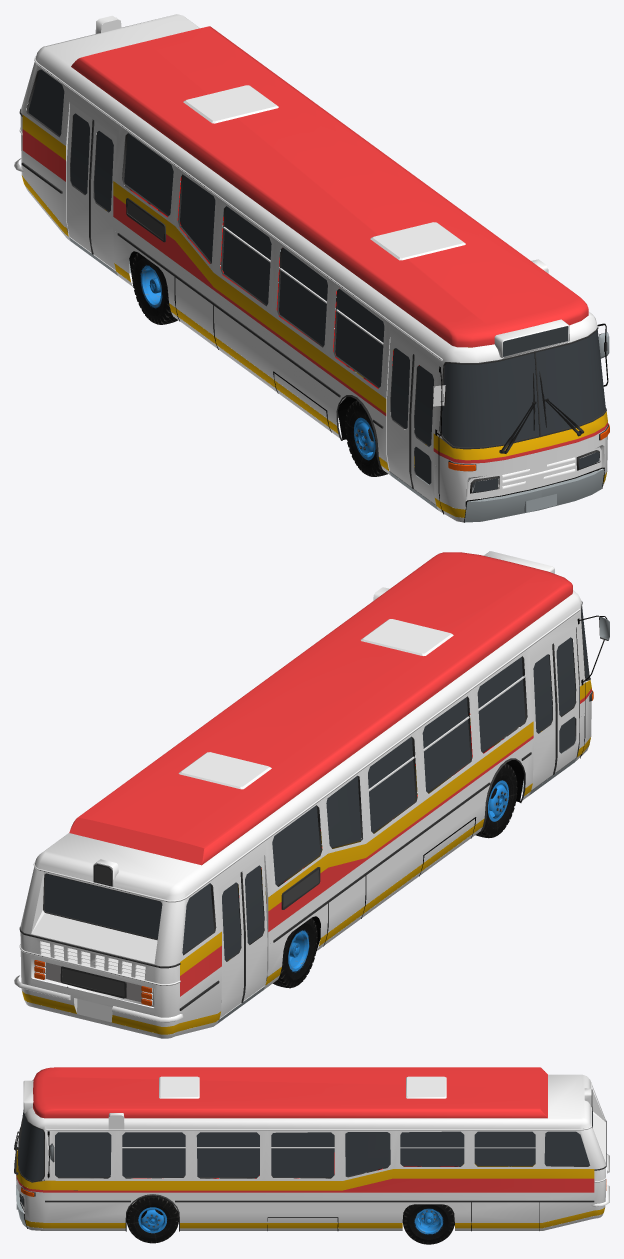
Rendered from bus.glb.
3 renders of one model, top to bottom at view 1: azimuth 30°, elevation 25°; view 2: azimuth 150°, elevation 25°; view 3: azimuth 270°, elevation 25°, orthographic. The views are drawn at different scales.
Visible parts, largest first — view 1: Object_34, Object_25, Object_16, Object_33, Object_23, Object_17, Object_22, Object_26, wheelRR, wheelFR, Object_32, Object_3 (+2 smaller); view 2: Object_25, Object_34, Object_16, Object_33, Object_23, Object_32, Object_22, wheelRR, wheelFR, Object_28, Object_26; view 3: Object_25, Object_34, Object_16, Object_33, Object_23, wheelFL, wheelRL, Object_32, Object_26, Object_22, Object_11, Object_14 (+1 smaller).
Part boxes in pixels (left/top/right/bottom): Object_34: left=22, top=26, right=607, bottom=463; Object_25: left=20, top=14, right=607, bottom=522; Object_16: left=28, top=69, right=605, bottom=492; Object_33: left=21, top=115, right=607, bottom=517; Object_23: left=19, top=105, right=607, bottom=488; Object_17: left=68, top=233, right=604, bottom=522; Object_22: left=26, top=70, right=608, bottom=496; Object_26: left=113, top=217, right=569, bottom=467; wheelRR: left=132, top=254, right=171, bottom=323; wheelFR: left=345, top=403, right=384, bottom=476; Object_32: left=14, top=56, right=442, bottom=360; Object_3: left=503, top=326, right=568, bottom=356; Object_25: left=20, top=587, right=591, bottom=1038; Object_34: left=69, top=552, right=591, bottom=996; Object_16: left=44, top=606, right=589, bottom=961; Object_33: left=22, top=680, right=591, bottom=1034; Object_23: left=19, top=601, right=590, bottom=1010; Object_32: left=14, top=608, right=580, bottom=1022; Object_22: left=183, top=617, right=608, bottom=980; wheelRR: left=276, top=918, right=316, bottom=986; wheelFR: left=480, top=766, right=516, bottom=836; Object_28: left=62, top=869, right=318, bottom=996; Object_26: left=68, top=551, right=584, bottom=999; Object_25: left=16, top=1074, right=605, bottom=1230; Object_34: left=16, top=1067, right=594, bottom=1192; Object_16: left=18, top=1108, right=592, bottom=1205; Object_33: left=16, top=1149, right=604, bottom=1228; Object_23: left=14, top=1089, right=606, bottom=1231; wheelFL: left=127, top=1195, right=178, bottom=1242; wheelRL: left=403, top=1204, right=454, bottom=1244; Object_32: left=46, top=1082, right=609, bottom=1207; Object_26: left=23, top=1080, right=609, bottom=1200; Object_22: left=14, top=1118, right=589, bottom=1206; Object_11: left=126, top=1195, right=178, bottom=1243; Object_14: left=402, top=1204, right=454, bottom=1244.
Size of the model in its own units: 2.73 by 2.77 by 11.2.
Materials: 7 (2 with a texture image).
